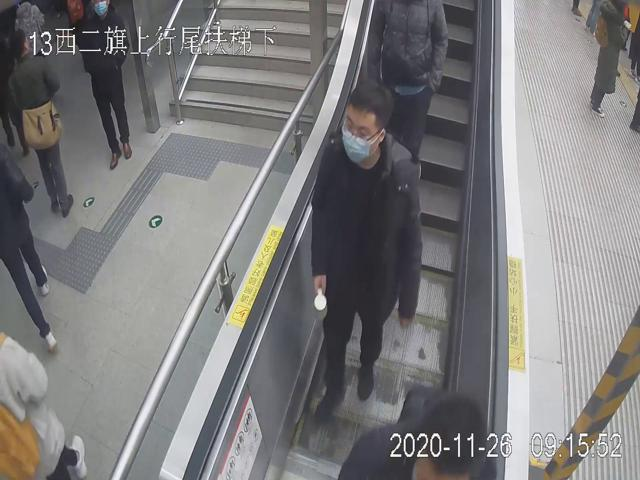person: (311, 77, 419, 424), (77, 0, 134, 170)
